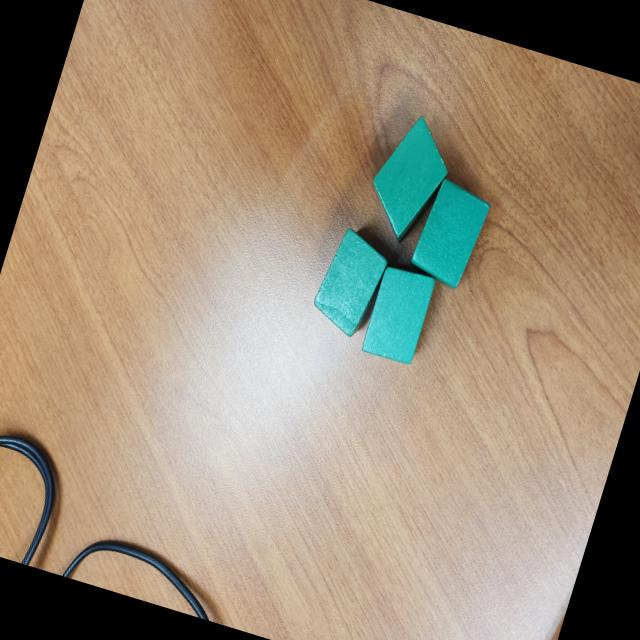green: (354, 105, 462, 253), (304, 223, 398, 343), (406, 175, 495, 292), (358, 260, 438, 370)
